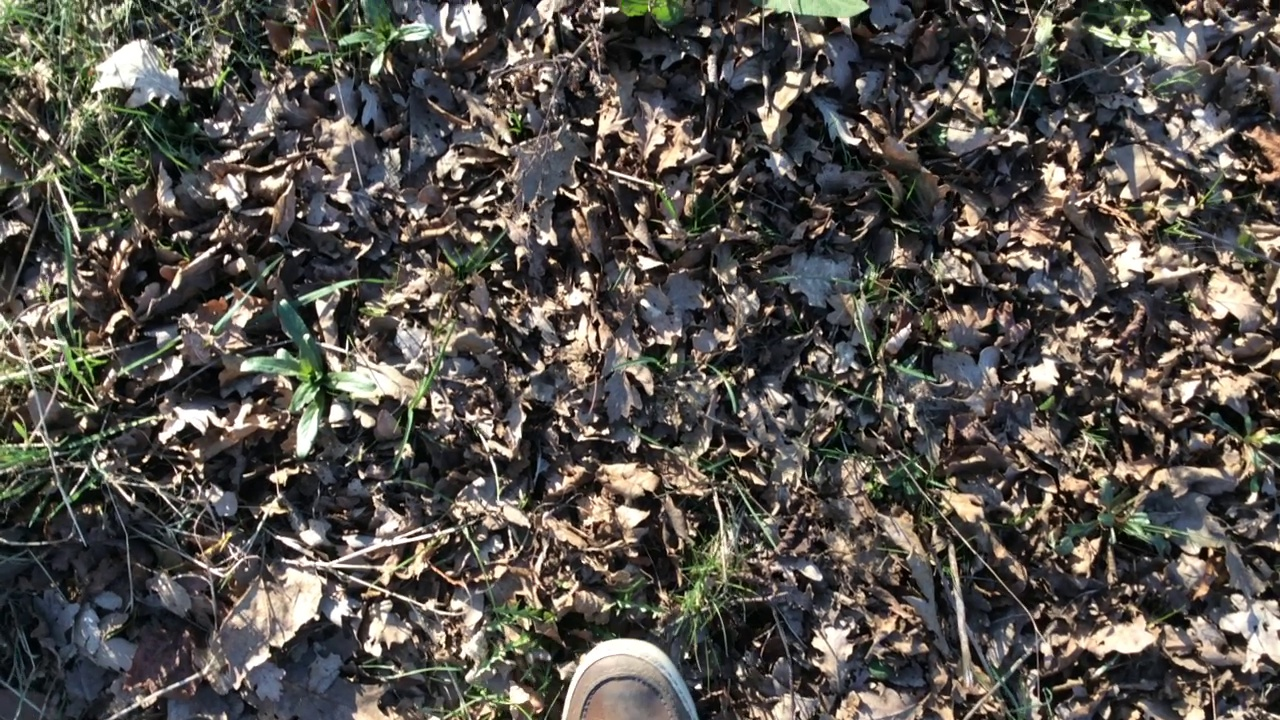rumex: (619, 1, 869, 17)
